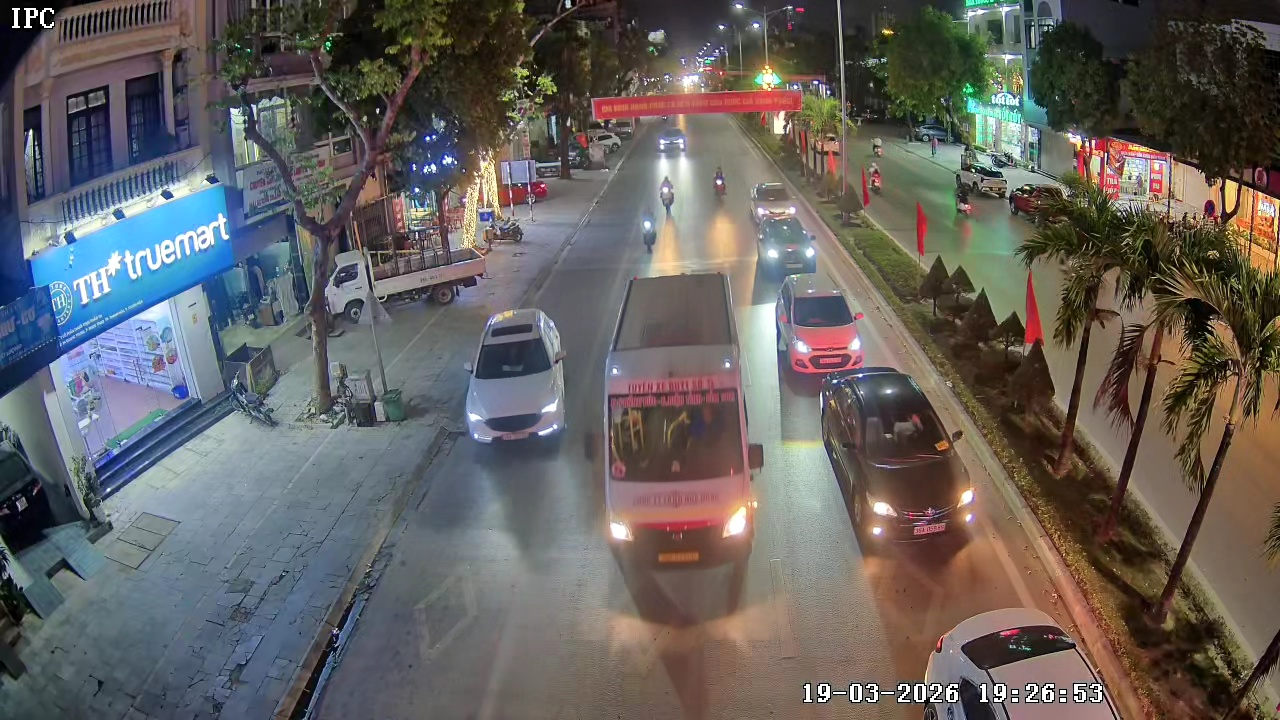bus: (592, 256, 767, 567)
car: (818, 365, 977, 553), (894, 607, 1126, 719), (463, 306, 568, 450), (774, 275, 864, 378), (752, 209, 820, 284), (749, 180, 795, 228), (656, 128, 688, 157)
motorbike: (640, 207, 658, 252), (658, 176, 676, 216), (711, 162, 728, 204)
